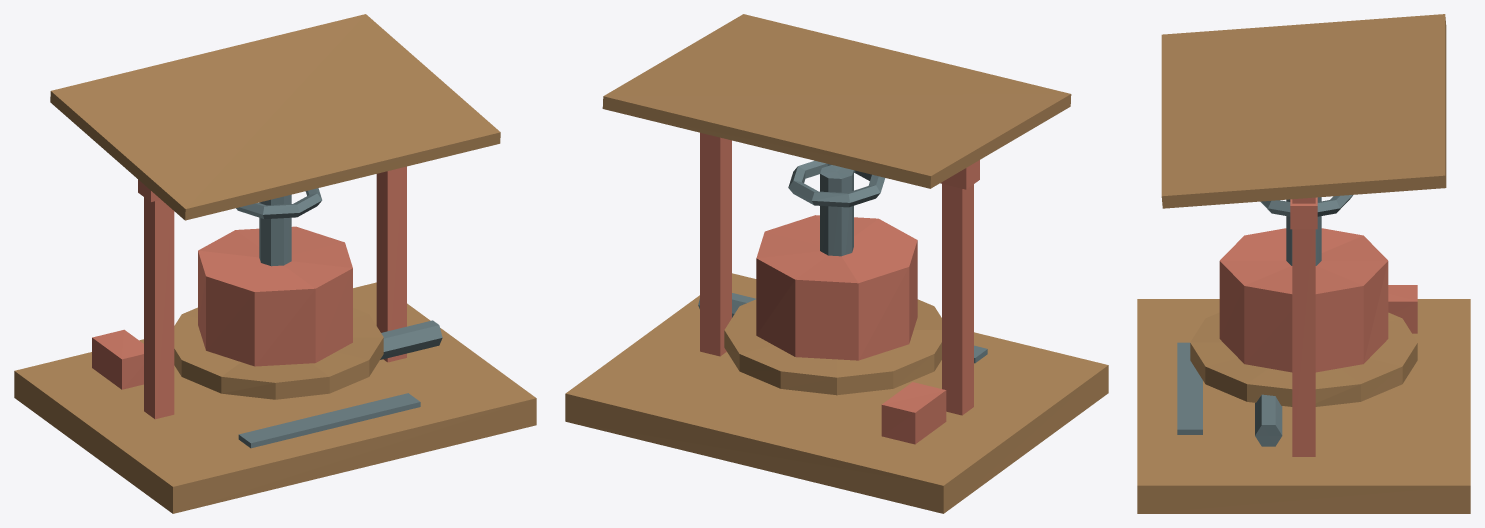
The model's file is Press.glb.
3 views of the same model, side by side, from view 1: azimuth 30°, elevation 25°; view 2: azimuth 150°, elevation 25°; view 3: azimuth 270°, elevation 25° (orthographic). The views are drawn at different scales.
Visible parts, largest first — view 1: wind-pump-static-press-weather-canopy, wind-pump-static-press-drainage-base, wind-pump-static-press-weathered-timber, wind-pump-static-press-collection-pan, wind-pump-static-press-dark-iron-frame; view 2: wind-pump-static-press-drainage-base, wind-pump-static-press-weather-canopy, wind-pump-static-press-weathered-timber, wind-pump-static-press-collection-pan, wind-pump-static-press-dark-iron-frame; view 3: wind-pump-static-press-weather-canopy, wind-pump-static-press-drainage-base, wind-pump-static-press-weathered-timber, wind-pump-static-press-collection-pan, wind-pump-static-press-dark-iron-frame.
Part boxes in pixels (<box>): wind-pump-static-press-weather-canopy: <box>50,14,500,220</box>; wind-pump-static-press-drainage-base: <box>14,282,536,513</box>; wind-pump-static-press-weathered-timber: <box>92,166,406,419</box>; wind-pump-static-press-collection-pan: <box>174,307,383,399</box>; wind-pump-static-press-dark-iron-frame: <box>236,188,442,448</box>; wind-pump-static-press-drainage-base: <box>565,273,1108,513</box>; wind-pump-static-press-weather-canopy: <box>602,14,1071,188</box>; wind-pump-static-press-weathered-timber: <box>700,132,979,444</box>; wind-pump-static-press-collection-pan: <box>724,299,941,395</box>; wind-pump-static-press-dark-iron-frame: <box>698,160,987,363</box>; wind-pump-static-press-weather-canopy: <box>1161,14,1446,208</box>; wind-pump-static-press-drainage-base: <box>1137,299,1470,513</box>; wind-pump-static-press-weathered-timber: <box>1219,197,1417,456</box>; wind-pump-static-press-collection-pan: <box>1190,312,1417,406</box>; wind-pump-static-press-dark-iron-frame: <box>1177,195,1352,446</box>.
Bounding box in the file's own units: 2.25 × 1.83 × 1.7.
